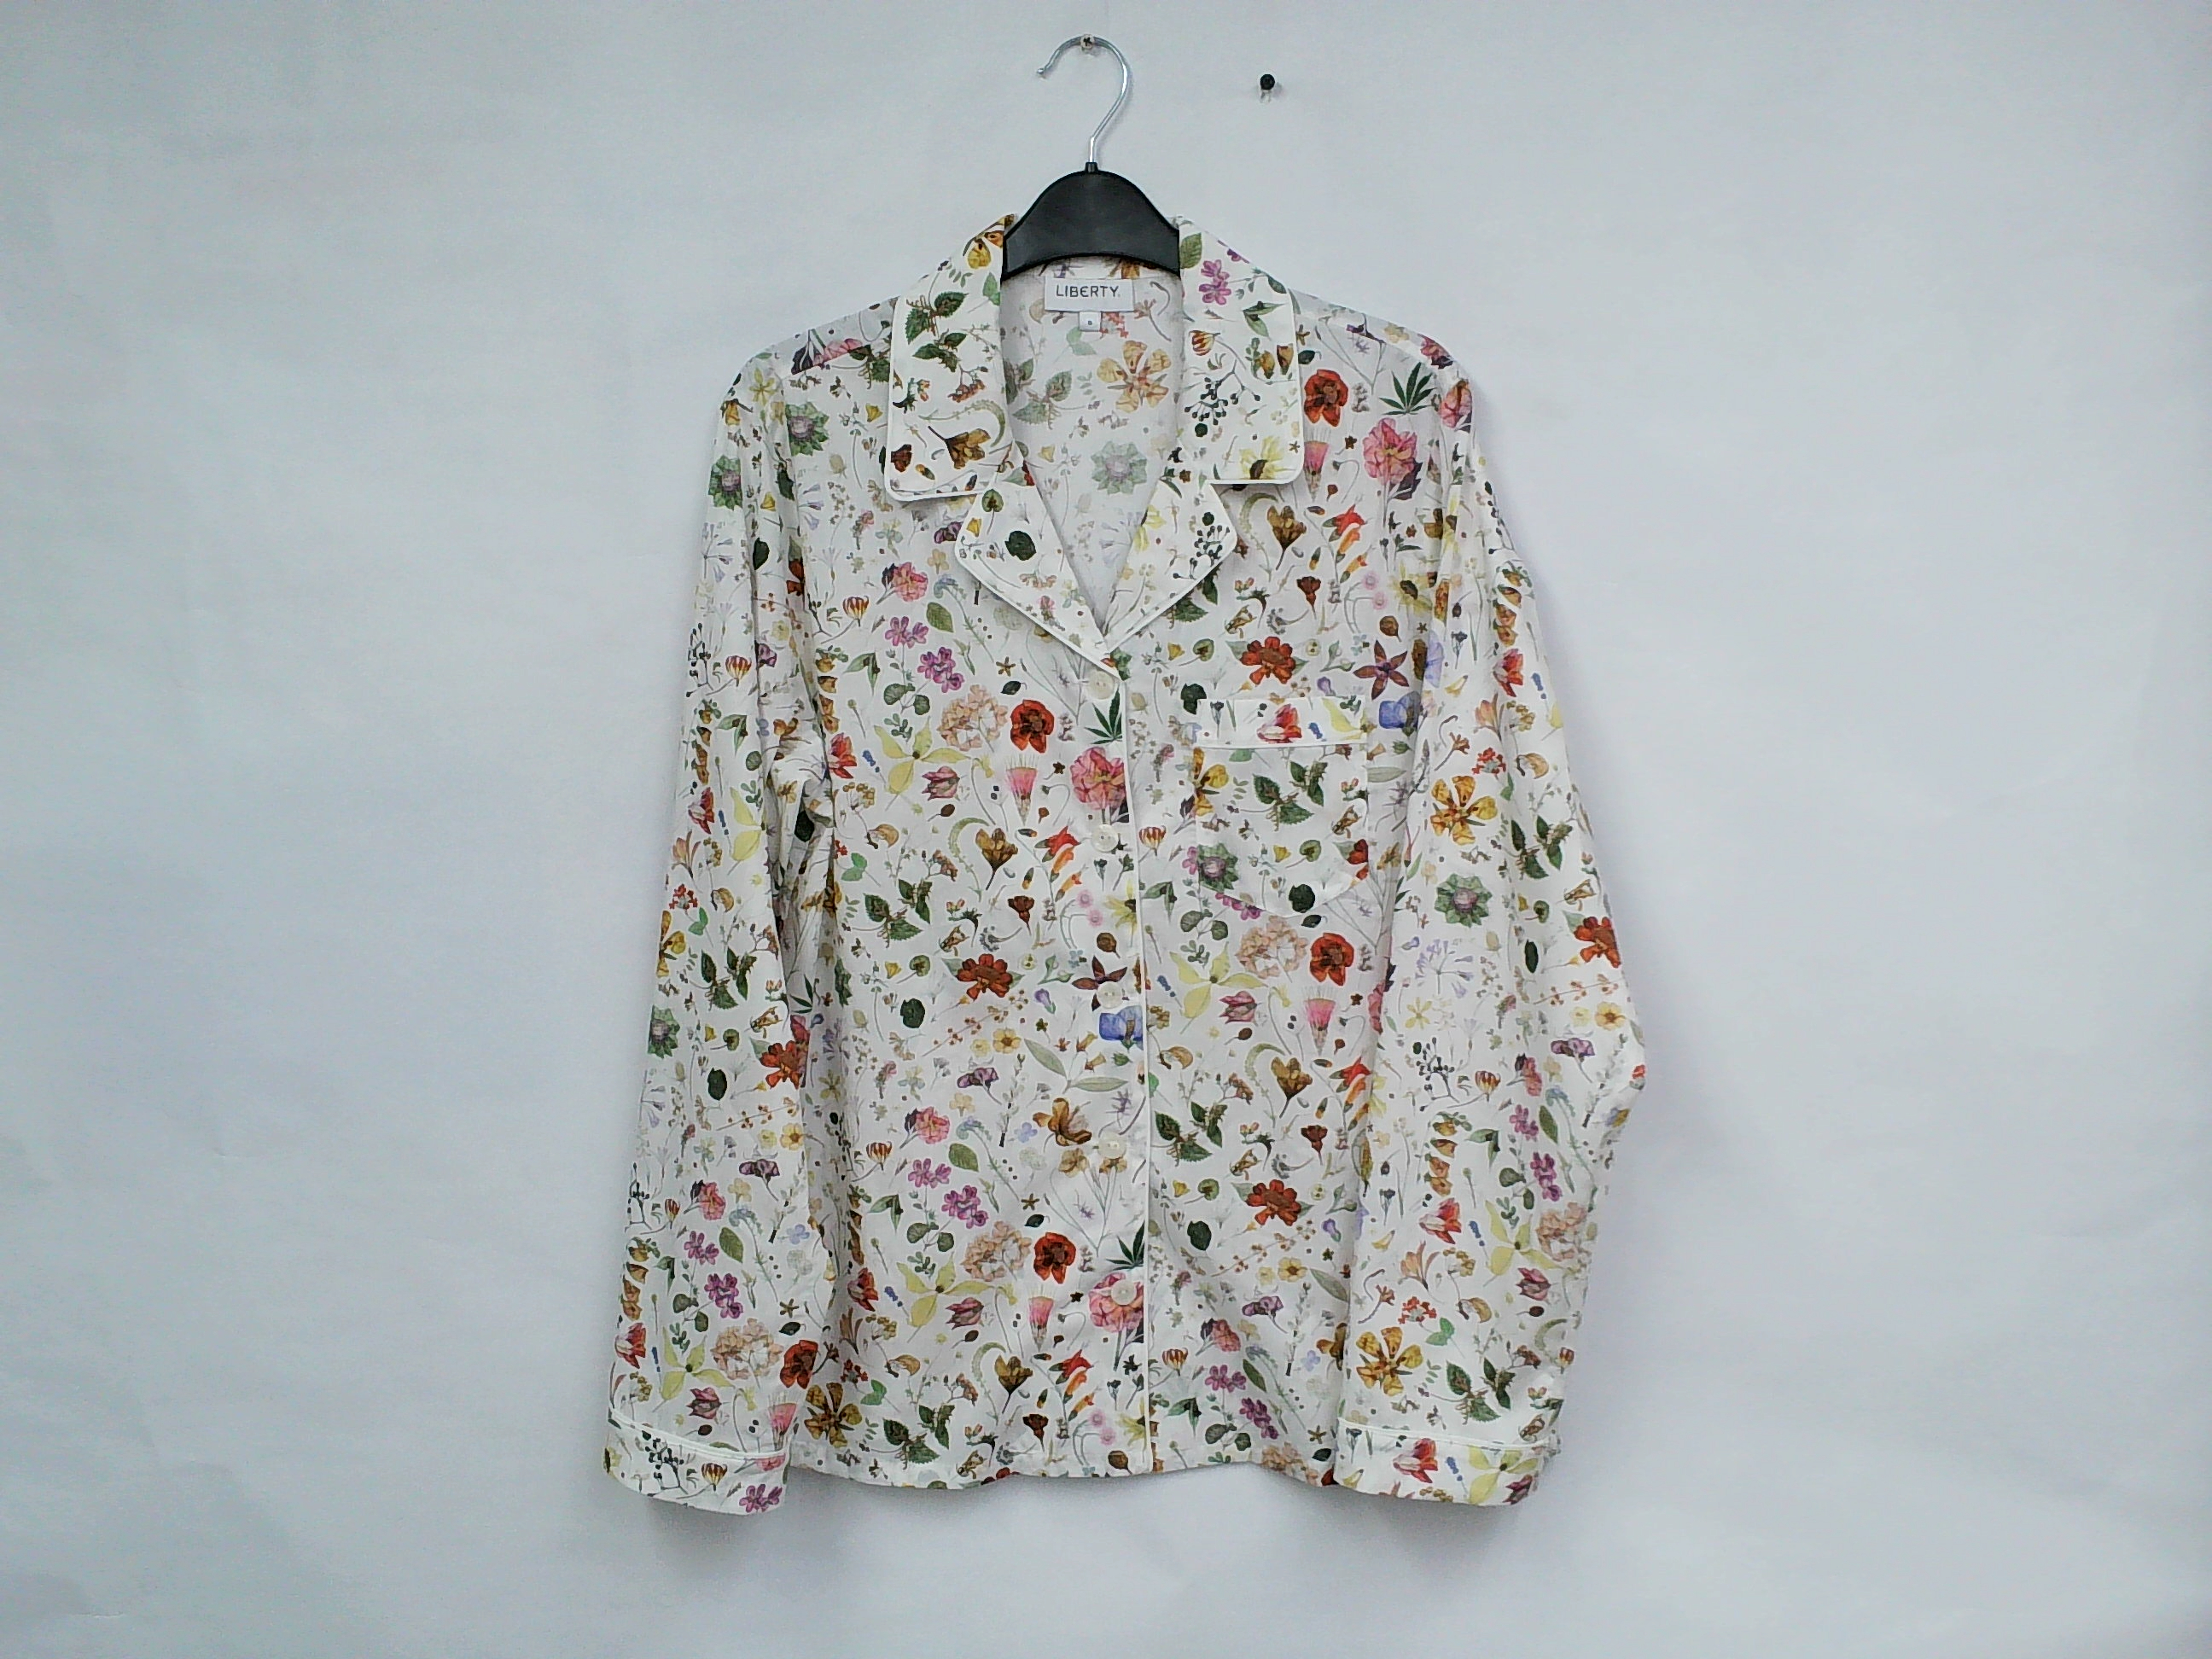seam: (590, 1396, 805, 1497), (1242, 803, 1395, 934)
